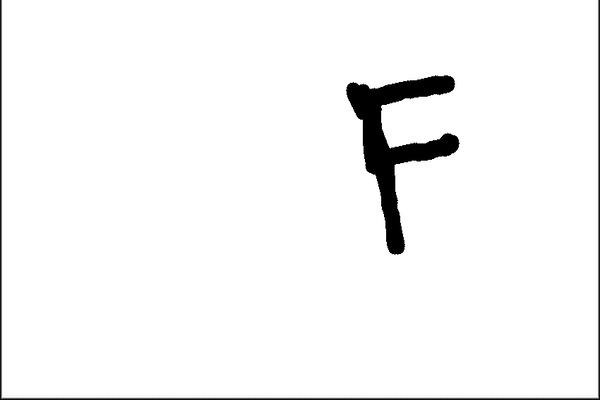F: (340, 70, 465, 256)
